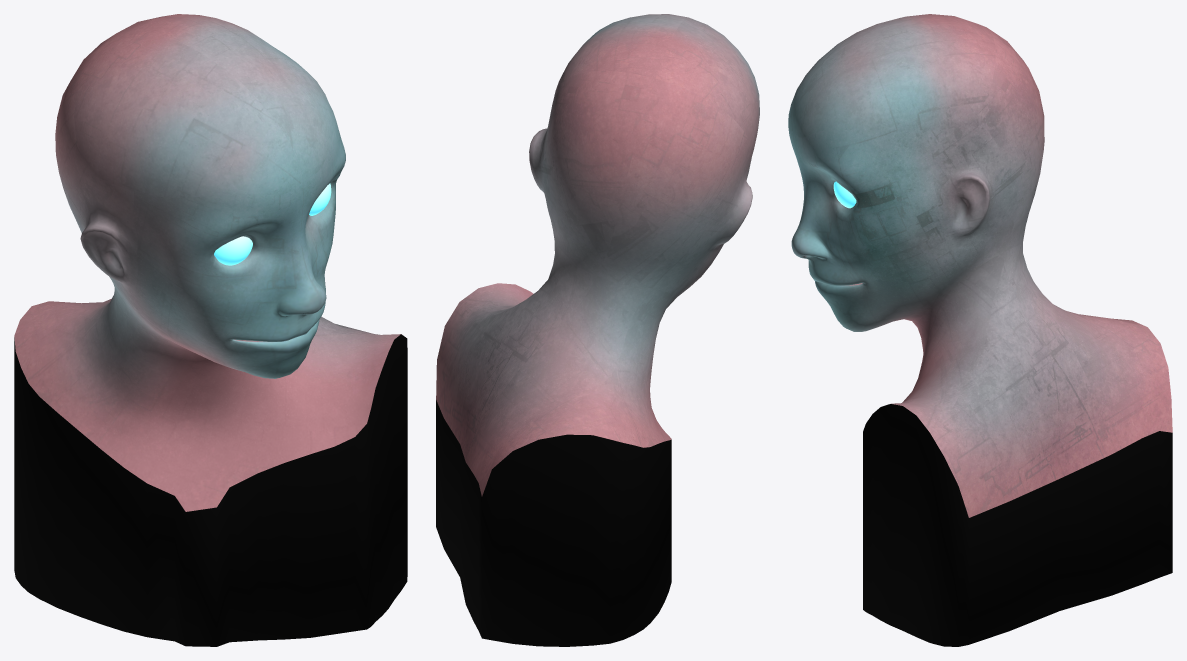
The model's file is magician.glb.
The picture shows the model from 3 angles, left to right: view 1: azimuth 30°, elevation 25°; view 2: azimuth 150°, elevation 25°; view 3: azimuth 270°, elevation 25°; orthographic projection. The views are drawn at different scales.
Parts seen in each view (by area): view 1: ZBrush_defualt_group.003_ZBrush_defualt_group.004, ZBrush_defualt_group.002_ZBrush_defualt_group.003, Sphere.001_Sphere.002; view 2: ZBrush_defualt_group.003_ZBrush_defualt_group.004, ZBrush_defualt_group.002_ZBrush_defualt_group.003; view 3: ZBrush_defualt_group.003_ZBrush_defualt_group.004, ZBrush_defualt_group.002_ZBrush_defualt_group.003.
Boxes of the visible parts, left/top/right/bottom form: ZBrush_defualt_group.003_ZBrush_defualt_group.004: left=14, top=14, right=400, bottom=511; ZBrush_defualt_group.002_ZBrush_defualt_group.003: left=14, top=334, right=407, bottom=646; Sphere.001_Sphere.002: left=214, top=183, right=331, bottom=265; ZBrush_defualt_group.003_ZBrush_defualt_group.004: left=436, top=14, right=759, bottom=496; ZBrush_defualt_group.002_ZBrush_defualt_group.003: left=436, top=400, right=671, bottom=646; ZBrush_defualt_group.003_ZBrush_defualt_group.004: left=788, top=14, right=1172, bottom=517; ZBrush_defualt_group.002_ZBrush_defualt_group.003: left=863, top=404, right=1172, bottom=646.
Bounding box in the file's own units: 1.5 × 2.57 × 1.7.
3 materials, 1 textured.
